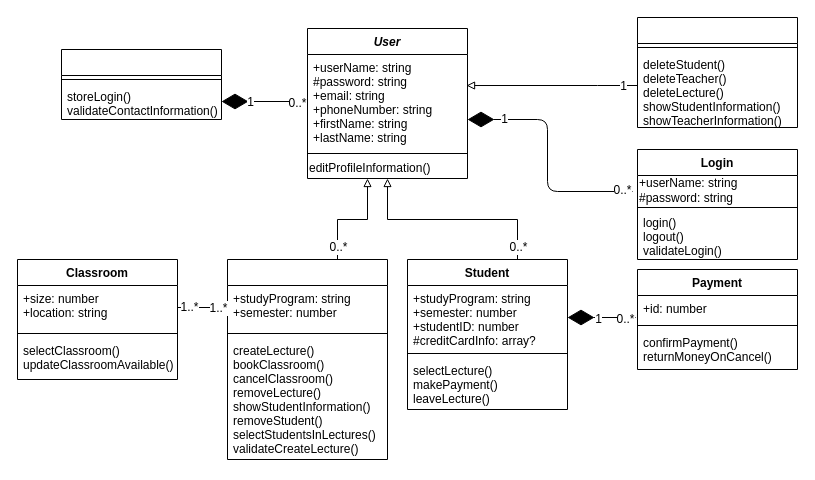
The diagram is 815 pixels wide and 480 high, and some of its shapes have lost their labels. The box of each missing label's shape, as (x1, y1, x2, y2) in pixels:
Admin: (636, 16, 798, 128)
Registration: (60, 48, 222, 120)
Teacher: (226, 258, 388, 460)
